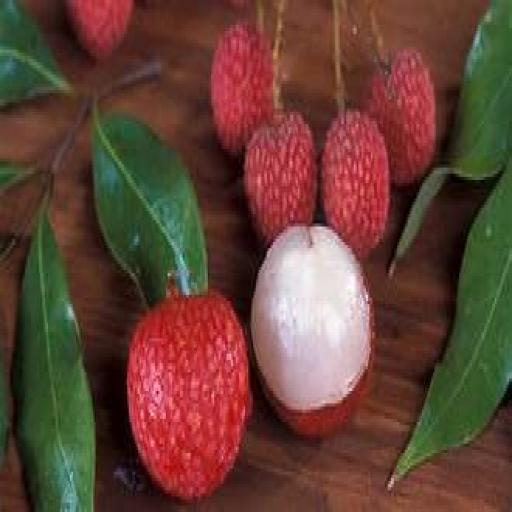lychee: (128, 292, 251, 499), (252, 227, 373, 437), (322, 112, 389, 257), (244, 112, 316, 245), (367, 50, 435, 186), (212, 22, 273, 155), (66, 0, 133, 58)
